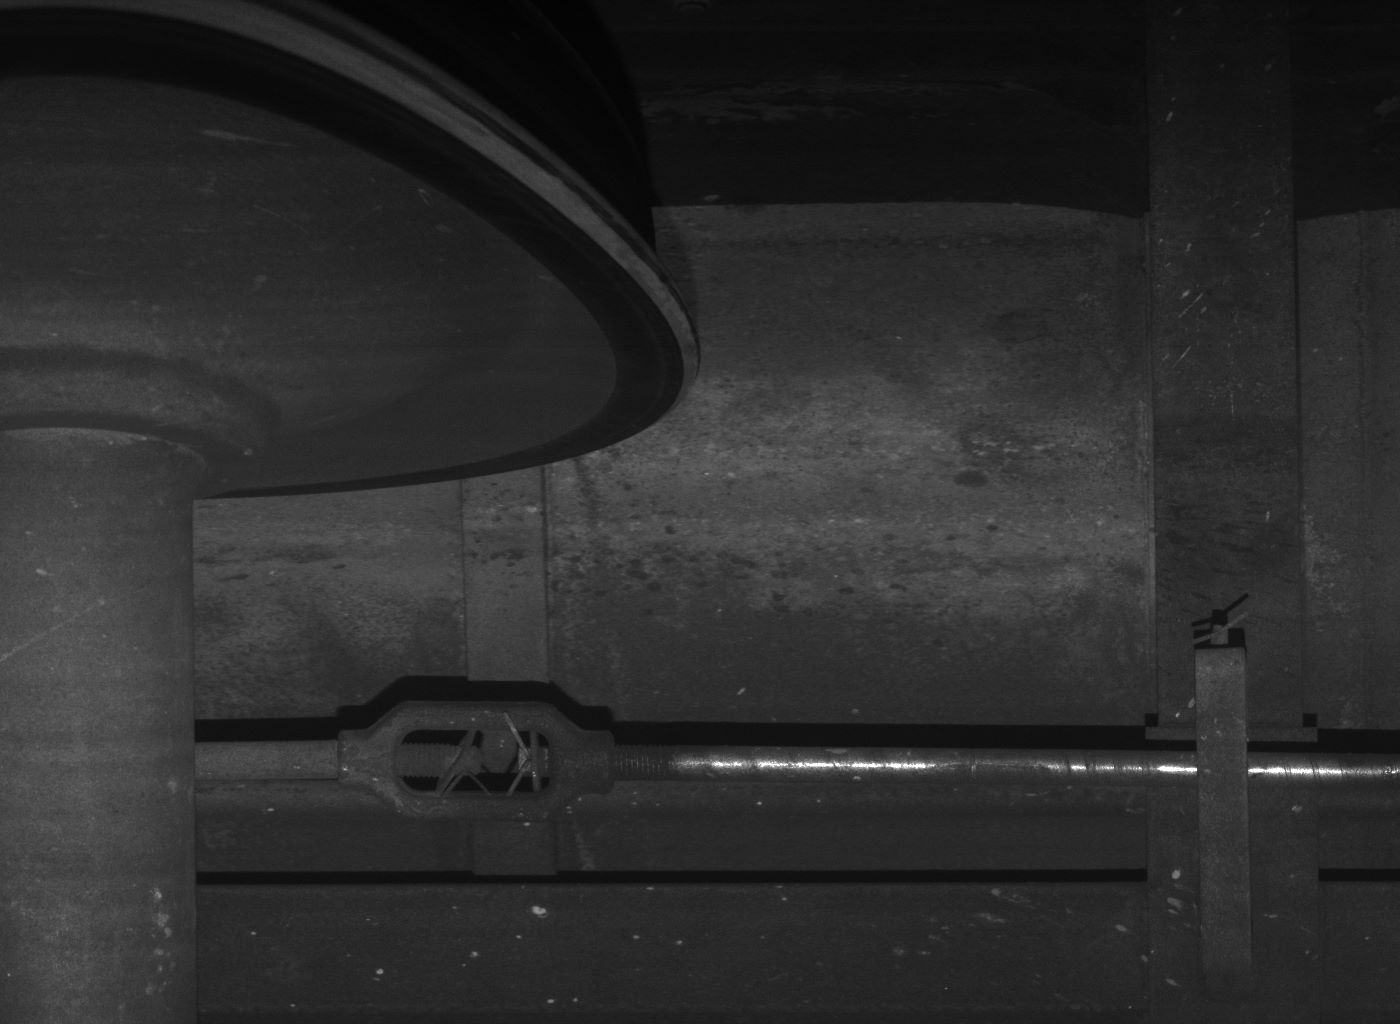normal: (1193, 610, 1257, 1004)
